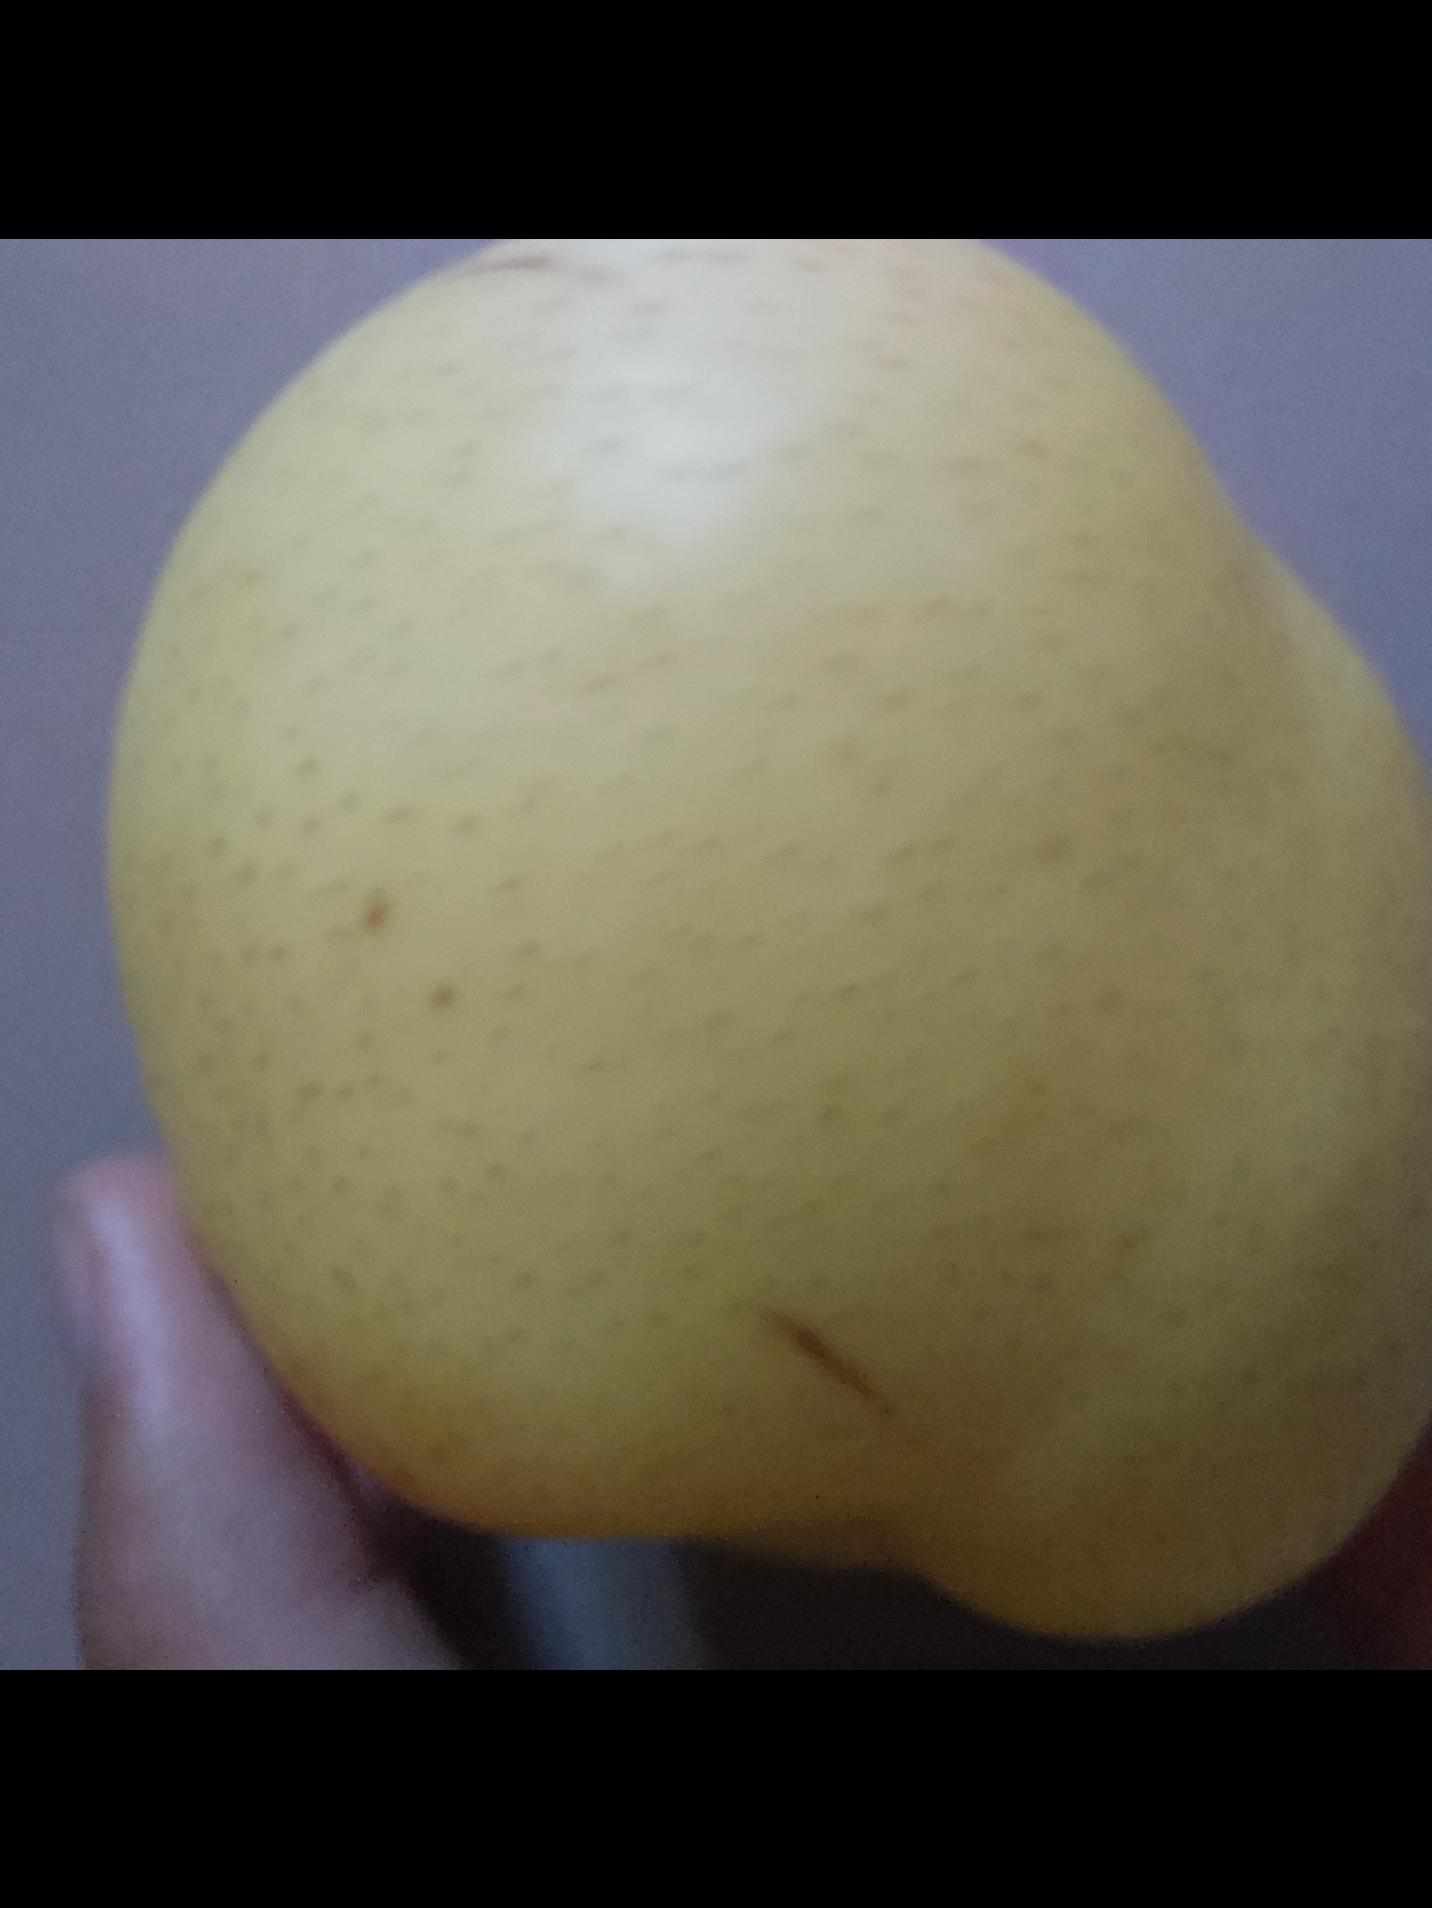Good Pear: (120, 238, 1432, 1651)
